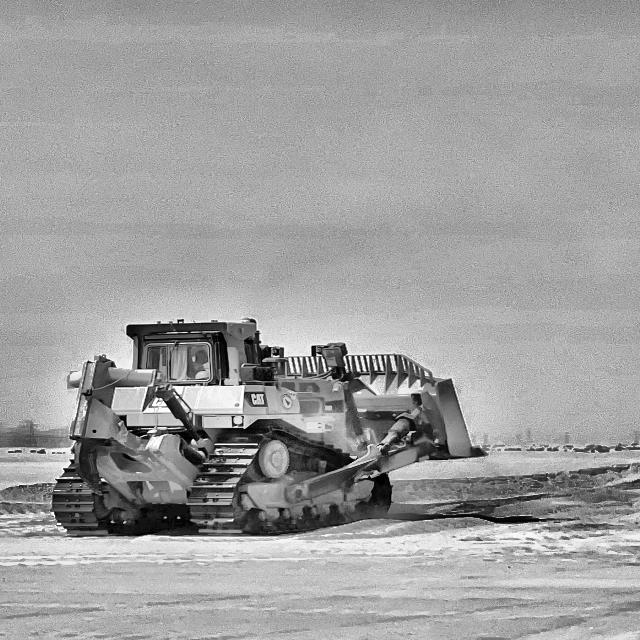buldozerpayloadergrader: (48, 302, 488, 544)
